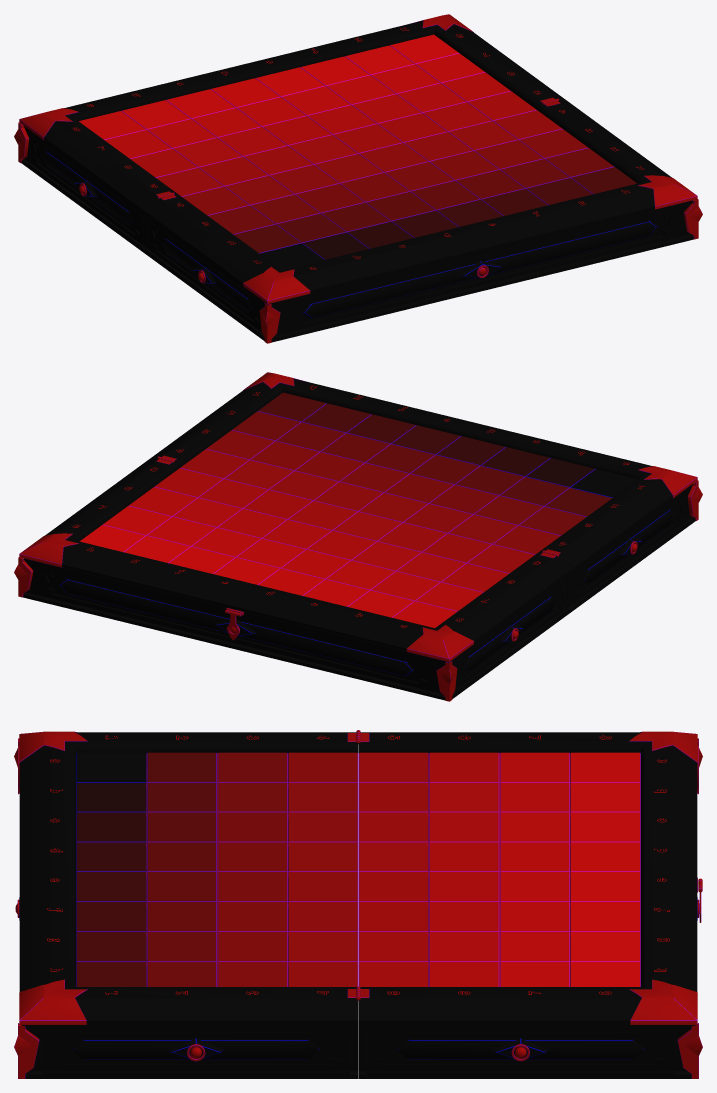
Rendered from board.glb.
The picture shows the model from 3 angles, top to bottom: view 1: azimuth 30°, elevation 25°; view 2: azimuth 150°, elevation 25°; view 3: azimuth 270°, elevation 25°; orthographic projection. The views are drawn at different scales.
Visible parts, largest first — view 1: lid_frame, void_tiles_dark, void_tiles_light, lid_tiles_dark, lid_tiles_light, void_frame, drawer_void_w, drawer_lid_w; view 2: void_frame, lid_tiles_light, lid_tiles_dark, void_tiles_light, void_tiles_dark, lid_frame, drawer_lid_w, drawer_void_w; view 3: void_frame, lid_frame, lid_tiles_dark, void_tiles_light, lid_tiles_light, void_tiles_dark, drawer_lid_e, drawer_void_e, void_inlay, lid_inlay.
Boxes of the visible parts, x1,y1,x2,y2 form: lid_frame: (143, 99, 702, 343); void_tiles_dark: (104, 34, 510, 196); void_tiles_light: (79, 45, 536, 186); lid_tiles_dark: (208, 110, 614, 269); lid_tiles_light: (182, 121, 636, 259); void_frame: (14, 14, 572, 252); drawer_void_w: (28, 134, 143, 248); drawer_lid_w: (146, 221, 261, 335); void_frame: (14, 456, 573, 701); lid_tiles_light: (206, 392, 612, 554); lid_tiles_dark: (180, 403, 637, 544); void_tiles_light: (102, 468, 508, 627); void_tiles_dark: (80, 479, 534, 617); lid_frame: (144, 372, 702, 610); drawer_lid_w: (573, 492, 688, 606); drawer_void_w: (455, 579, 570, 693); void_frame: (356, 730, 702, 1078); lid_frame: (14, 731, 360, 1078); lid_tiles_dark: (76, 752, 358, 986); void_tiles_light: (358, 752, 640, 986); lid_tiles_light: (76, 752, 358, 986); void_tiles_dark: (358, 752, 640, 986); drawer_lid_e: (42, 1032, 349, 1077); drawer_void_e: (367, 1032, 674, 1077); void_inlay: (387, 735, 669, 994); lid_inlay: (47, 735, 329, 994).
Bounding box in the file's own units: 9.78 × 1.13 × 9.76.
